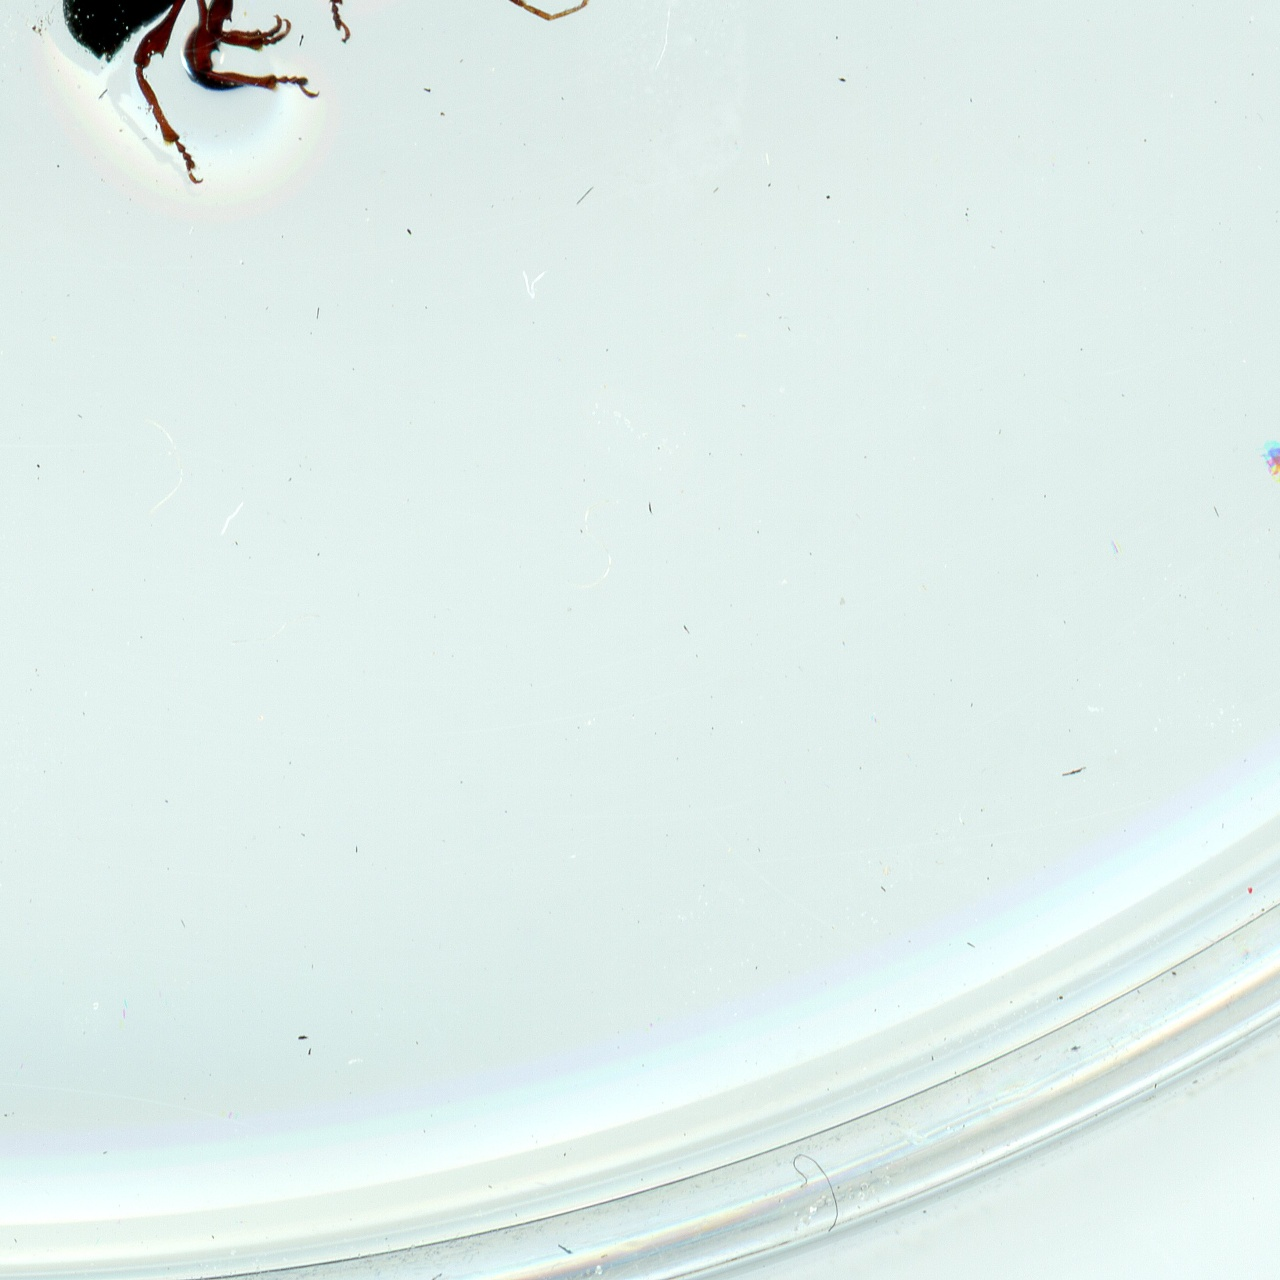arthropod: (13, 0, 495, 206)
